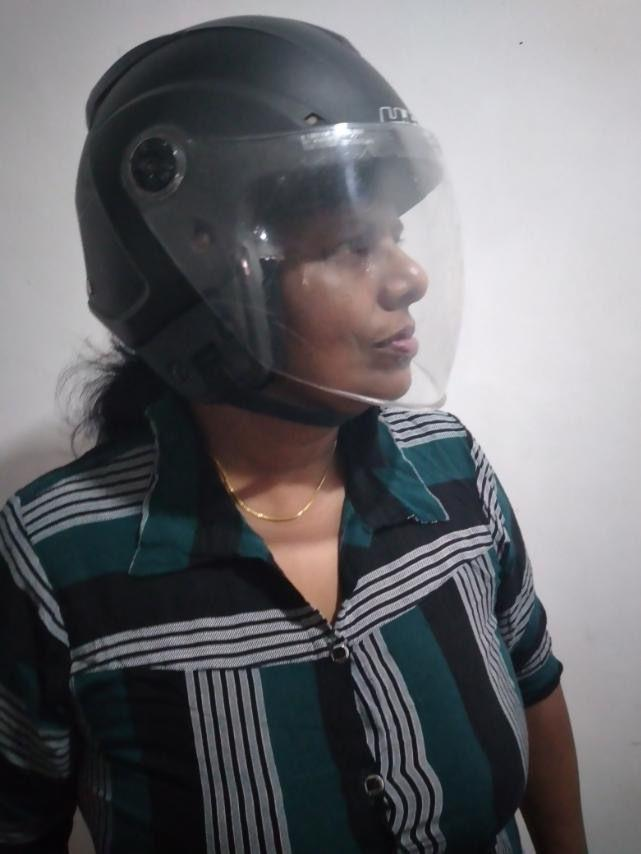helmet: (74, 12, 458, 427)
